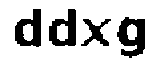d: (9, 3, 44, 50), (47, 5, 79, 51)
g: (115, 14, 148, 60)
x: (81, 17, 112, 50)
